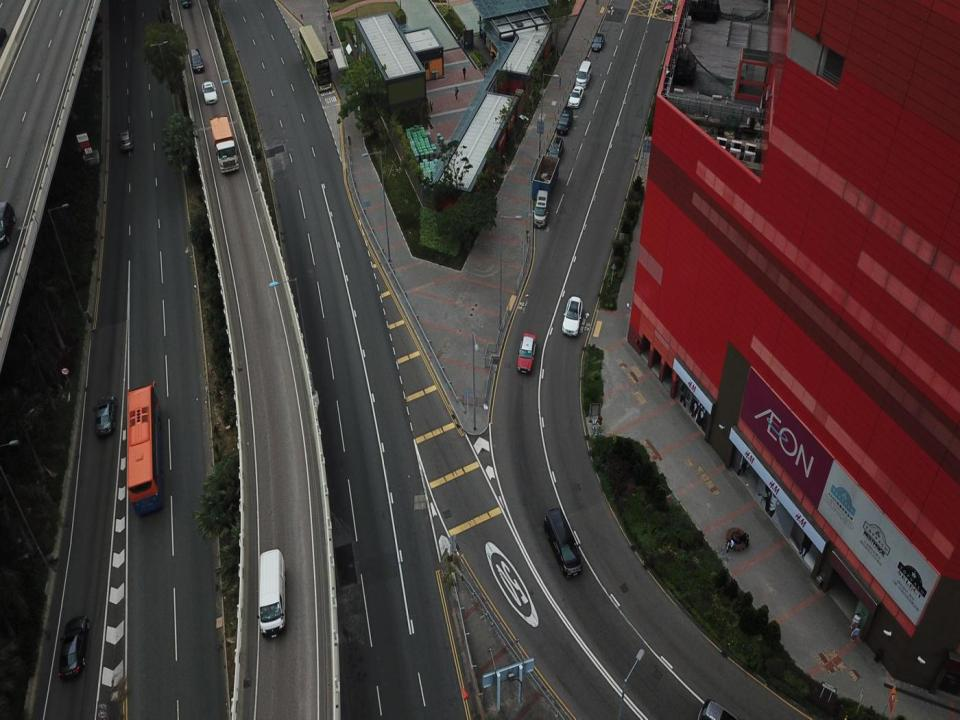bus: (126, 380, 167, 518), (298, 24, 332, 94)
car: (57, 615, 90, 679), (94, 393, 118, 438), (515, 331, 538, 376), (561, 295, 583, 337), (0, 200, 17, 246), (200, 80, 218, 105), (557, 106, 573, 133), (548, 135, 565, 160), (117, 127, 133, 152), (568, 85, 584, 108), (190, 48, 204, 74), (591, 31, 605, 53), (661, 0, 674, 15)
truck: (209, 114, 241, 175)
van: (544, 507, 584, 579), (257, 548, 287, 640), (533, 188, 549, 229), (576, 59, 592, 87)
